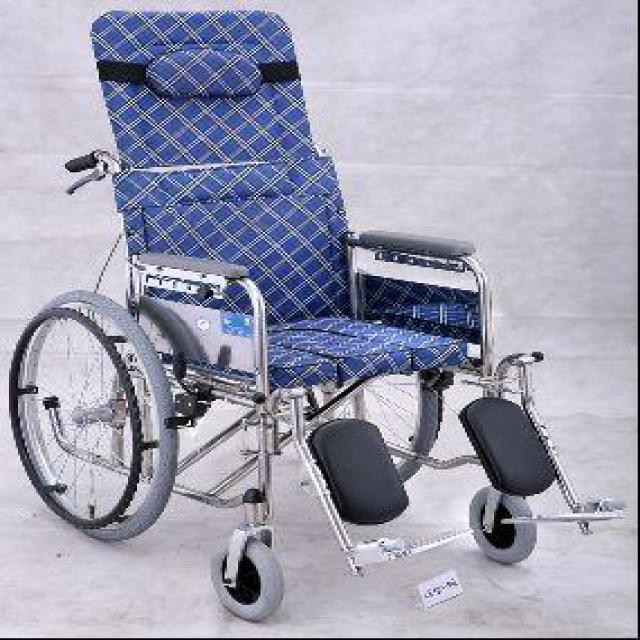wheelchair: (2, 0, 638, 614)
